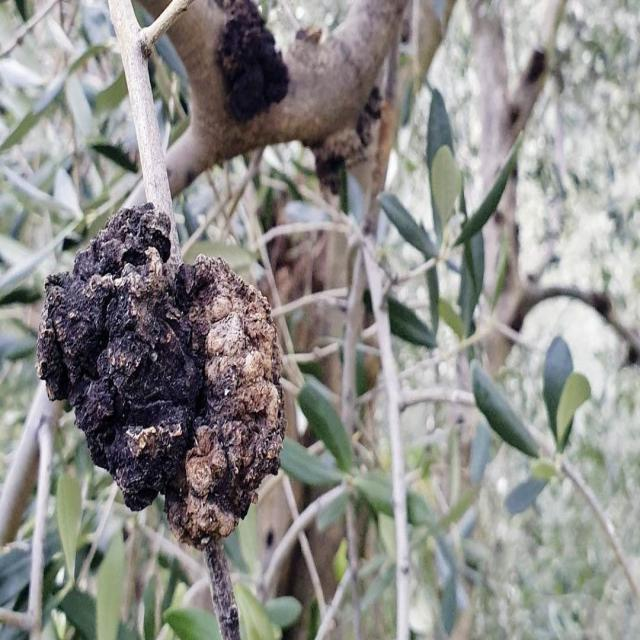Tuberculosis: (37, 204, 286, 554), (208, 0, 290, 123)
